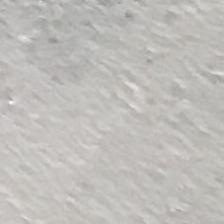Non_Crack: (19, 22, 224, 198)
